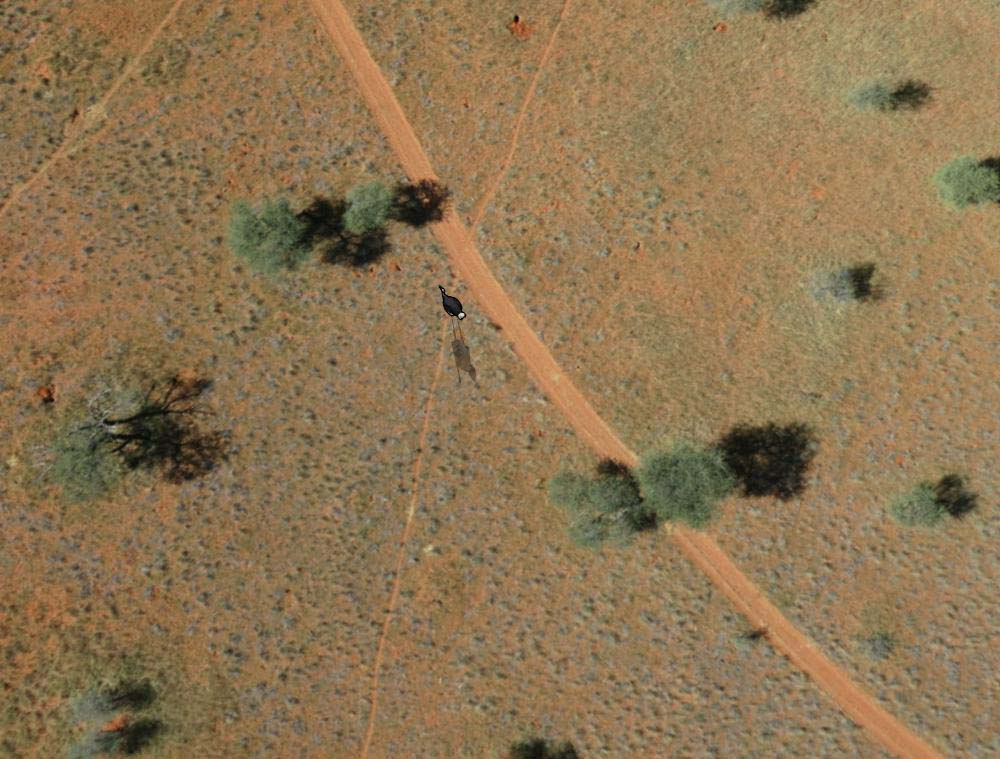ostrich: (437, 281, 466, 320)
